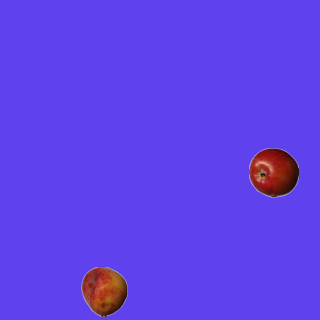Apple Braeburn: (248, 147, 298, 197)
Peach: (79, 266, 129, 316)
